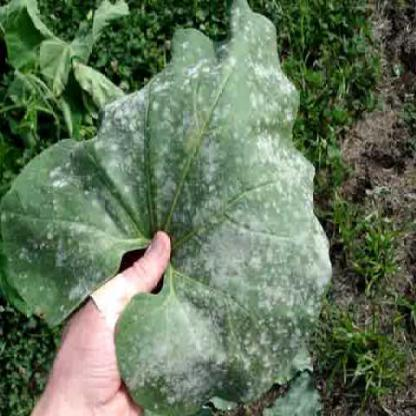Squash Powdery mildew leaf: (12, 1, 328, 404)
